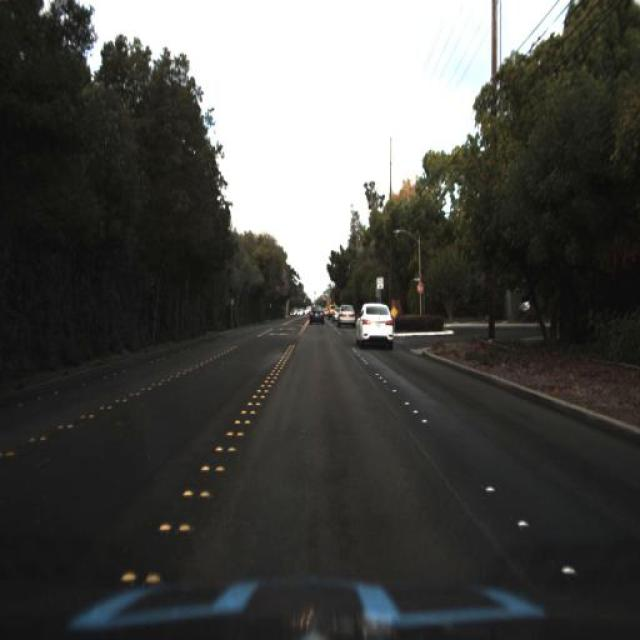car: (352, 298, 397, 352), (306, 305, 326, 329), (335, 299, 353, 325)
